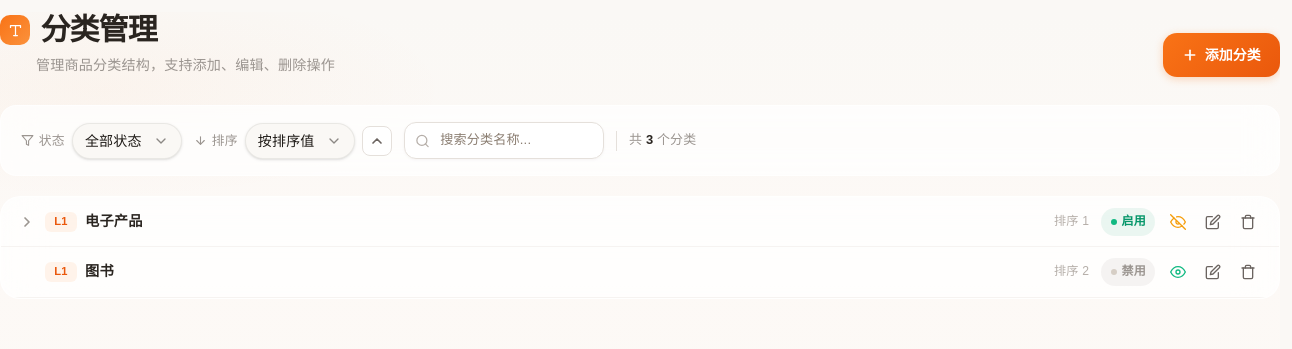
Test: CategoryManagePage › renders category tree with categories
This screenshot has width=1292, height=349.
Expected: the text "电子产品" is shown, [85, 213, 143, 229]
Expected: the text "图书" is shown, [85, 264, 114, 280]
Child is hidden until expanded — expand the parent first
Click the button named "展开": {"x": 27, "y": 222} [17, 212, 37, 232]
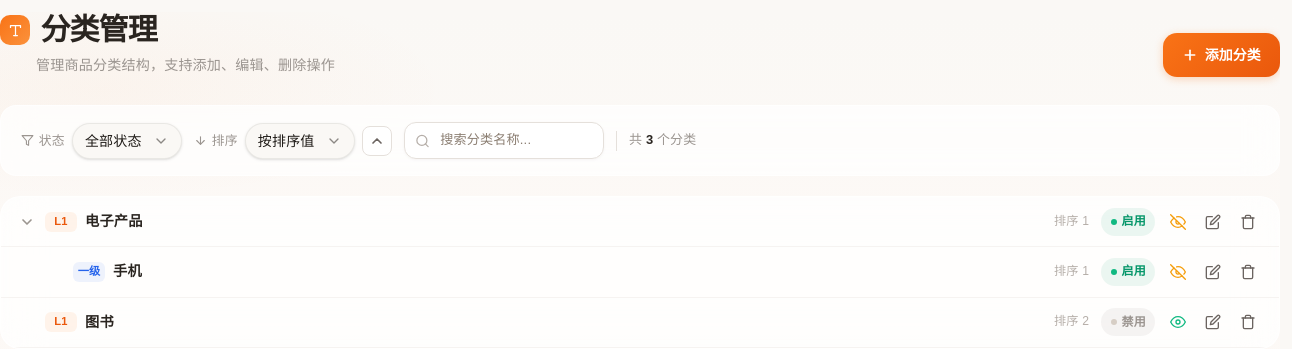
Expected: the text "L1" next to "电子产品" is shown, [54, 215, 68, 227]
Result: the text "手机" is shown at [113, 264, 142, 280]
Result: the text "一级" is shown at [73, 262, 105, 282]
